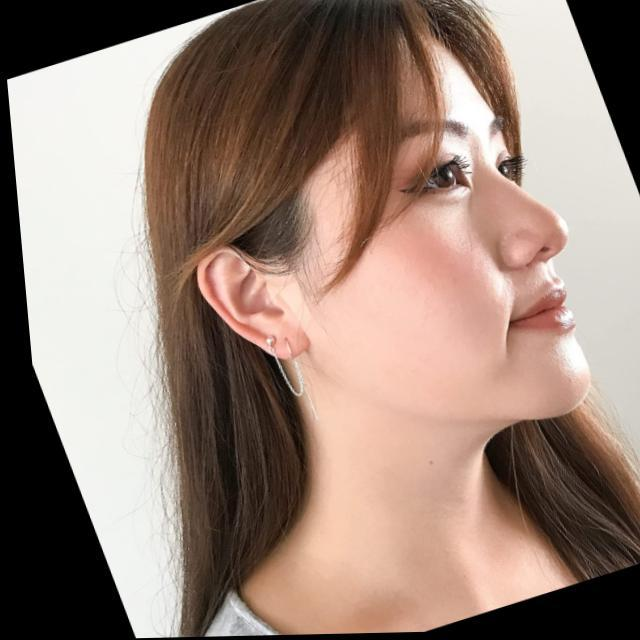Nonhelmet: (139, 0, 639, 634)
